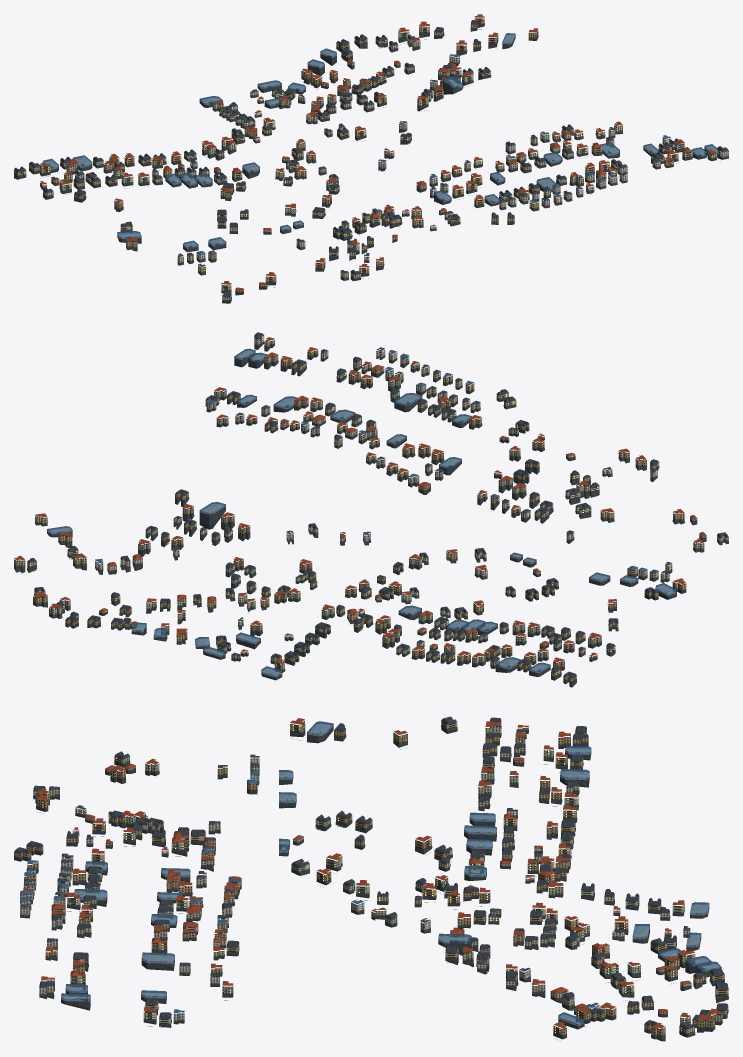
File: osm_buildings_T_E02_N00_Q2.glb
The picture shows the model from 3 angles, top to bottom: view 1: azimuth 30°, elevation 25°; view 2: azimuth 150°, elevation 25°; view 3: azimuth 270°, elevation 25°; orthographic projection. The views are drawn at different scales.
Parts seen in each view (by area): view 1: OSM_T_E02_N00_Q2_foundation, OSM_T_E02_N00_Q2_wall_french_ochre, OSM_T_E02_N00_Q2_wall_cream_stucco, OSM_T_E02_N00_Q2_roof_mansard_slate, OSM_T_E02_N00_Q2_roof_terracotta, OSM_T_E02_N00_Q2_greenhouse_blend, OSM_T_E02_N00_Q2_roof_mansard_deck, OSM_T_E02_N00_Q2_wall_warm_white, OSM_T_E02_N00_Q2_roof_mint_metal, OSM_T_E02_N00_Q2_balcony_railing, OSM_T_E02_N00_Q2_trim_cornice, OSM_T_E02_N00_Q2_wall_pastel_sand (+1 smaller); view 2: OSM_T_E02_N00_Q2_foundation, OSM_T_E02_N00_Q2_wall_french_ochre, OSM_T_E02_N00_Q2_wall_cream_stucco, OSM_T_E02_N00_Q2_roof_mansard_slate, OSM_T_E02_N00_Q2_roof_terracotta, OSM_T_E02_N00_Q2_greenhouse_blend, OSM_T_E02_N00_Q2_roof_mansard_deck, OSM_T_E02_N00_Q2_wall_warm_white, OSM_T_E02_N00_Q2_roof_mint_metal, OSM_T_E02_N00_Q2_wall_pastel_sand, OSM_T_E02_N00_Q2_trim_cornice, OSM_T_E02_N00_Q2_window_emissive_warm; view 3: OSM_T_E02_N00_Q2_foundation, OSM_T_E02_N00_Q2_wall_french_ochre, OSM_T_E02_N00_Q2_wall_cream_stucco, OSM_T_E02_N00_Q2_roof_mansard_slate, OSM_T_E02_N00_Q2_roof_terracotta, OSM_T_E02_N00_Q2_greenhouse_blend, OSM_T_E02_N00_Q2_roof_mansard_deck, OSM_T_E02_N00_Q2_wall_warm_white, OSM_T_E02_N00_Q2_trim_cornice, OSM_T_E02_N00_Q2_roof_mint_metal, OSM_T_E02_N00_Q2_balcony_railing, OSM_T_E02_N00_Q2_wall_pastel_sand (+2 smaller).
Boxes of the visible parts, x1,y1,x2,y2 form: OSM_T_E02_N00_Q2_foundation: [14, 23, 728, 303]; OSM_T_E02_N00_Q2_wall_french_ochre: [14, 18, 678, 291]; OSM_T_E02_N00_Q2_wall_cream_stucco: [43, 29, 716, 300]; OSM_T_E02_N00_Q2_roof_mansard_slate: [14, 20, 728, 297]; OSM_T_E02_N00_Q2_roof_terracotta: [40, 14, 716, 290]; OSM_T_E02_N00_Q2_greenhouse_blend: [42, 33, 717, 248]; OSM_T_E02_N00_Q2_roof_mansard_deck: [15, 20, 727, 295]; OSM_T_E02_N00_Q2_wall_warm_white: [152, 65, 728, 262]; OSM_T_E02_N00_Q2_roof_mint_metal: [14, 23, 728, 300]; OSM_T_E02_N00_Q2_balcony_railing: [19, 20, 720, 302]; OSM_T_E02_N00_Q2_trim_cornice: [14, 24, 728, 298]; OSM_T_E02_N00_Q2_wall_pastel_sand: [196, 55, 670, 260]; OSM_T_E02_N00_Q2_foundation: [14, 341, 728, 687]; OSM_T_E02_N00_Q2_wall_french_ochre: [14, 349, 706, 682]; OSM_T_E02_N00_Q2_wall_cream_stucco: [34, 339, 728, 670]; OSM_T_E02_N00_Q2_roof_mansard_slate: [27, 334, 728, 678]; OSM_T_E02_N00_Q2_roof_terracotta: [14, 337, 706, 663]; OSM_T_E02_N00_Q2_greenhouse_blend: [47, 348, 676, 677]; OSM_T_E02_N00_Q2_roof_mansard_deck: [29, 332, 727, 675]; OSM_T_E02_N00_Q2_wall_warm_white: [107, 335, 669, 648]; OSM_T_E02_N00_Q2_roof_mint_metal: [14, 341, 728, 685]; OSM_T_E02_N00_Q2_wall_pastel_sand: [95, 350, 647, 626]; OSM_T_E02_N00_Q2_trim_cornice: [14, 341, 728, 677]; OSM_T_E02_N00_Q2_window_emissive_warm: [30, 339, 670, 674]; OSM_T_E02_N00_Q2_foundation: [14, 725, 728, 1041]; OSM_T_E02_N00_Q2_wall_french_ochre: [14, 719, 728, 1036]; OSM_T_E02_N00_Q2_wall_cream_stucco: [24, 721, 722, 1034]; OSM_T_E02_N00_Q2_roof_mansard_slate: [14, 717, 728, 1029]; OSM_T_E02_N00_Q2_roof_terracotta: [23, 718, 722, 1028]; OSM_T_E02_N00_Q2_greenhouse_blend: [61, 721, 721, 1026]; OSM_T_E02_N00_Q2_roof_mansard_deck: [16, 716, 727, 1026]; OSM_T_E02_N00_Q2_wall_warm_white: [20, 758, 620, 1012]; OSM_T_E02_N00_Q2_trim_cornice: [15, 720, 727, 1041]; OSM_T_E02_N00_Q2_roof_mint_metal: [14, 725, 728, 1038]; OSM_T_E02_N00_Q2_balcony_railing: [37, 726, 700, 1036]; OSM_T_E02_N00_Q2_wall_pastel_sand: [20, 774, 691, 1020].
Size of the model in its own units: 995 by 154 by 907.
16 materials, 16 textured.
